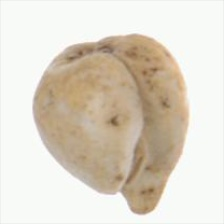L3: (92, 175, 156, 216)
L4: (31, 34, 190, 215)
